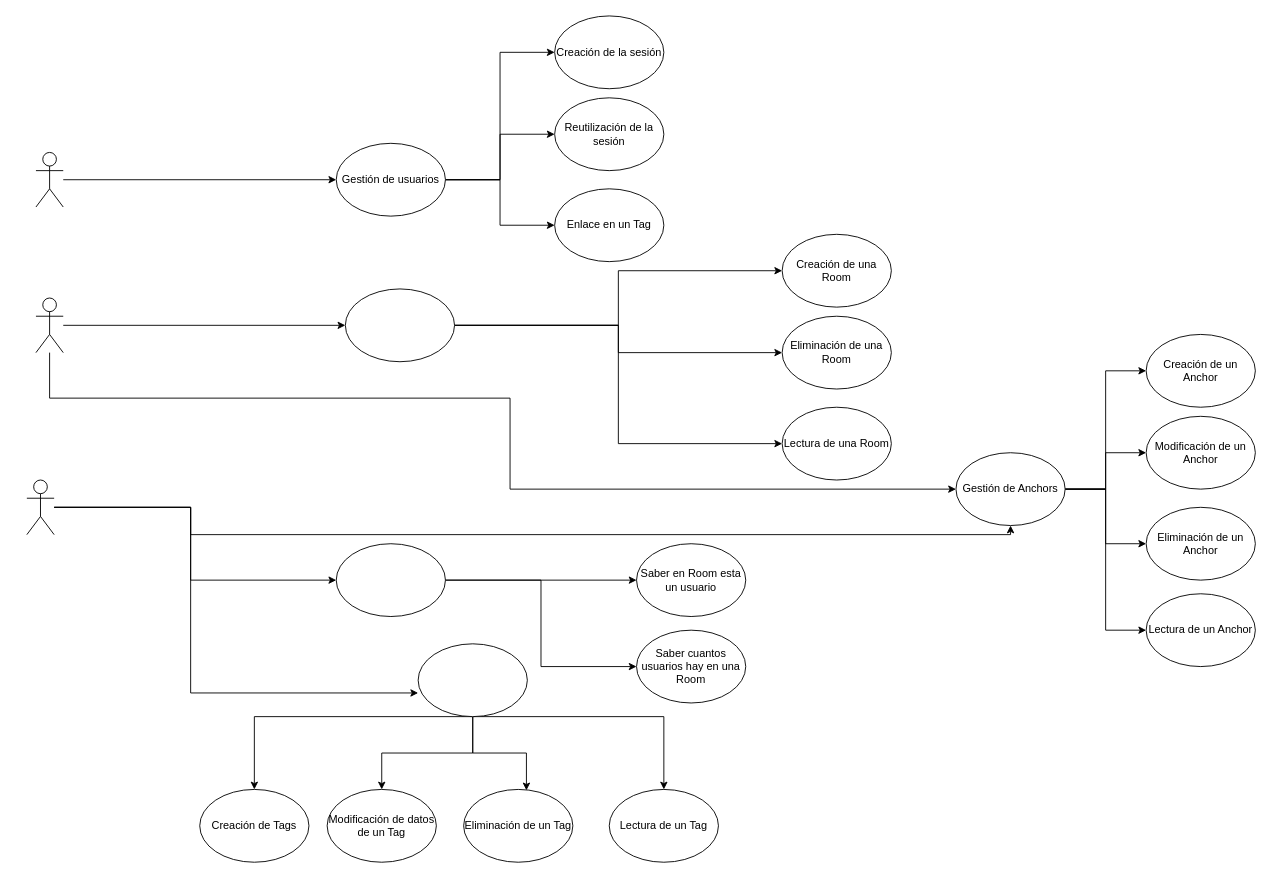
This 1271x878 diagram has some shape labels left out. Here are the shapes that lost their labels. From the top down, the box of each, then its label:
(35, 152, 63, 207): Usuario
(35, 297, 63, 353): Guía
(344, 288, 455, 362): Gestión de Rooms
(26, 479, 54, 535): Raspberry
(335, 543, 445, 617): Geofencing
(417, 643, 527, 717): Gestión de Tags
